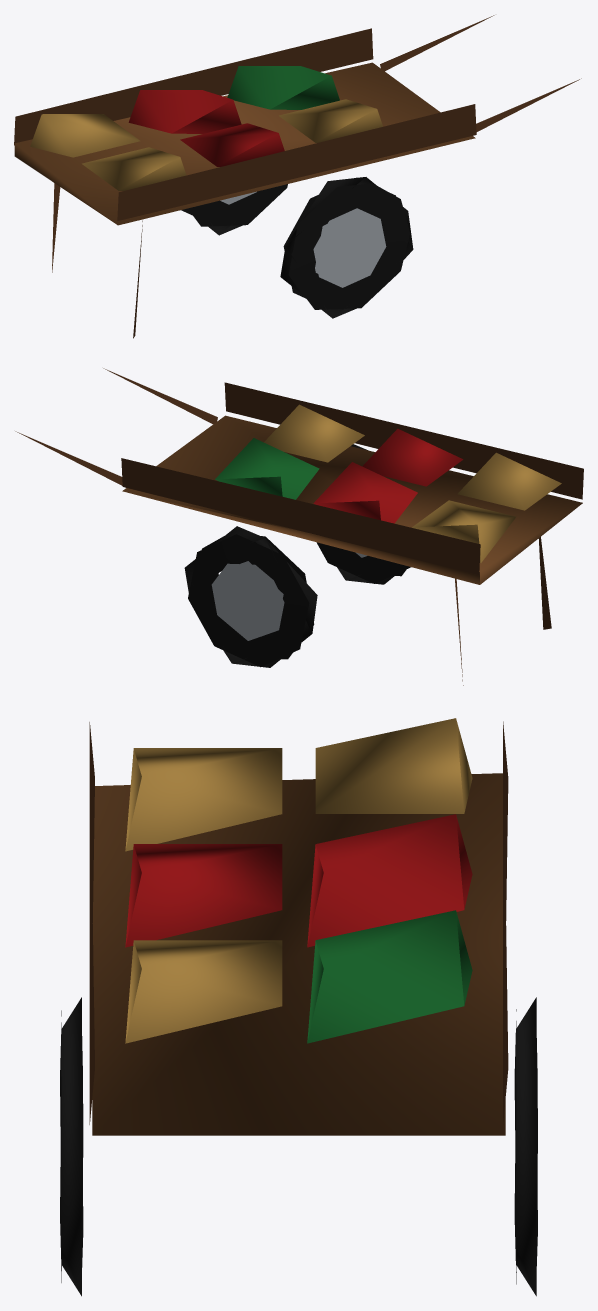
Rendered from hand_cart_lod1.glb.
3 renders of one model, top to bottom at view 1: azimuth 30°, elevation 25°; view 2: azimuth 150°, elevation 25°; view 3: azimuth 270°, elevation 25°, orthographic. The views are drawn at different scales.
Visible parts, largest first — view 1: hand_cart_body, wheel_r.003, wheel_l; view 2: hand_cart_body, wheel_l, wheel_r.003; view 3: hand_cart_body, wheel_r.003, wheel_l.
Boxes of the visible parts, x1,y1,x2,y2 form: hand_cart_body: (14, 15, 581, 338); wheel_r.003: (280, 177, 413, 318); wheel_l: (181, 184, 287, 235); hand_cart_body: (15, 368, 583, 685); wheel_l: (184, 526, 317, 667); wheel_r.003: (316, 444, 410, 584); hand_cart_body: (89, 718, 508, 1135); wheel_r.003: (60, 997, 83, 1296); wheel_l: (514, 997, 537, 1296).
Size of the model in its own units: 2.65 by 0.9572 by 1.16.
1 material, 1 textured.
